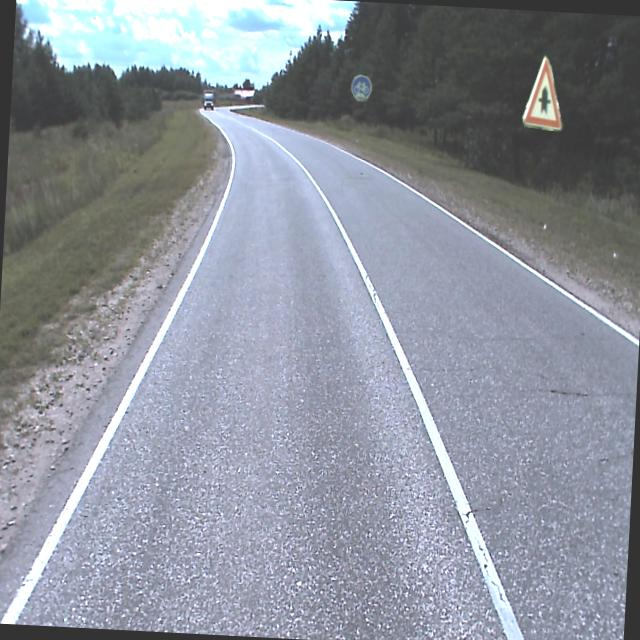road: (0, 107, 639, 640)
